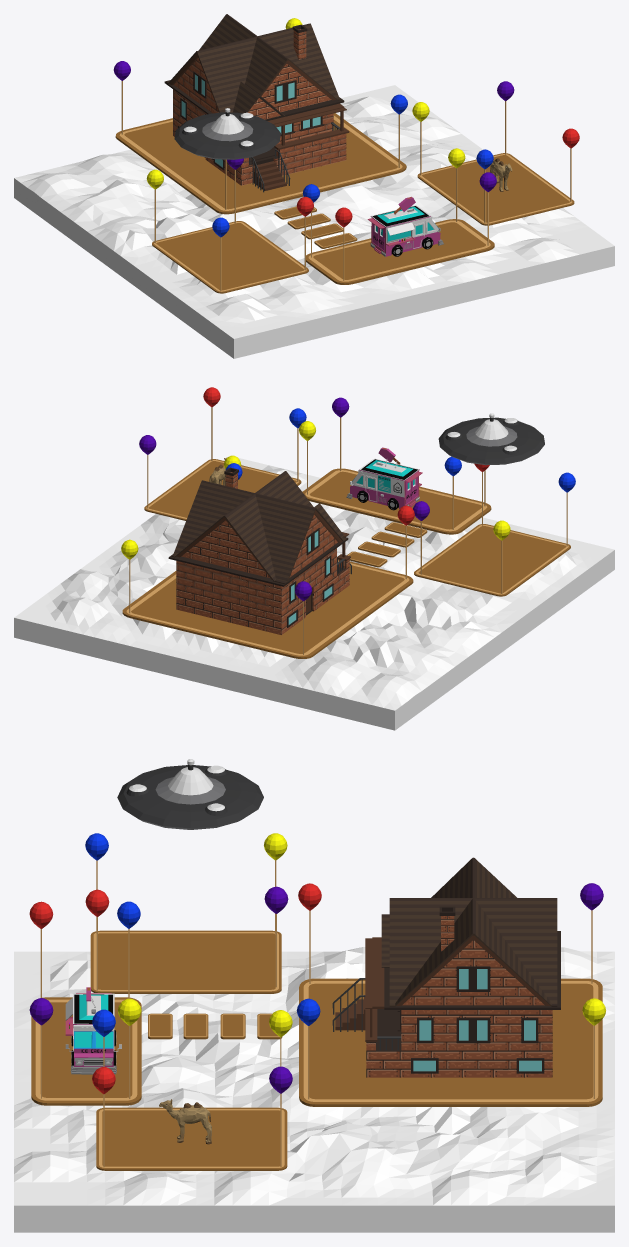
3 renders of one model, top to bottom at view 1: azimuth 30°, elevation 25°; view 2: azimuth 150°, elevation 25°; view 3: azimuth 270°, elevation 25°, orthographic. The views are drawn at different scales.
Visible parts, largest first — view 1: Cube.013, Cube.469, OBJRANDOM_UFO, VEHICLES_ICE_CREAM_TRUCK; view 2: Cube.013, Cube.469, OBJRANDOM_UFO, VEHICLES_ICE_CREAM_TRUCK; view 3: Cube.013, Cube.469, OBJRANDOM_UFO, VEHICLES_ICE_CREAM_TRUCK, ANIMAL_CAMELLO.
Part boxes in pixels (left/top/right/bottom): Cube.013: left=14, top=18, right=614, bottom=358; Cube.469: left=164, top=14, right=349, bottom=192; OBJRANDOM_UFO: left=174, top=108, right=280, bottom=159; VEHICLES_ICE_CREAM_TRUCK: left=367, top=196, right=443, bottom=256; Cube.013: left=14, top=387, right=614, bottom=730; Cube.469: left=168, top=467, right=351, bottom=634; OBJRANDOM_UFO: left=438, top=413, right=544, bottom=465; VEHICLES_ICE_CREAM_TRUCK: left=346, top=447, right=422, bottom=510; Cube.013: left=14, top=833, right=614, bottom=1232; Cube.469: left=332, top=857, right=560, bottom=1077; OBJRANDOM_UFO: left=117, top=759, right=263, bottom=829; VEHICLES_ICE_CREAM_TRUCK: left=65, top=987, right=121, bottom=1074; ANIMAL_CAMELLO: left=159, top=1099, right=211, bottom=1144.
Size of the model in its own units: 4000 by 1973 by 4000.
Materials: 40 (2 with a texture image).
